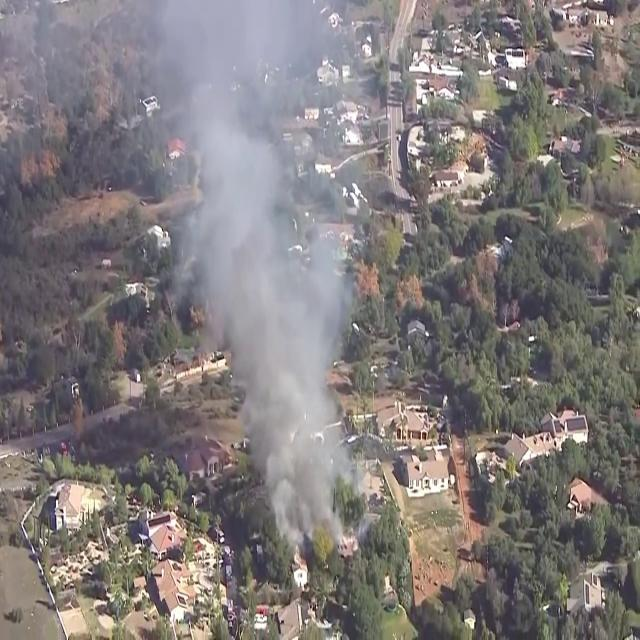Smoke: (130, 1, 372, 550)
